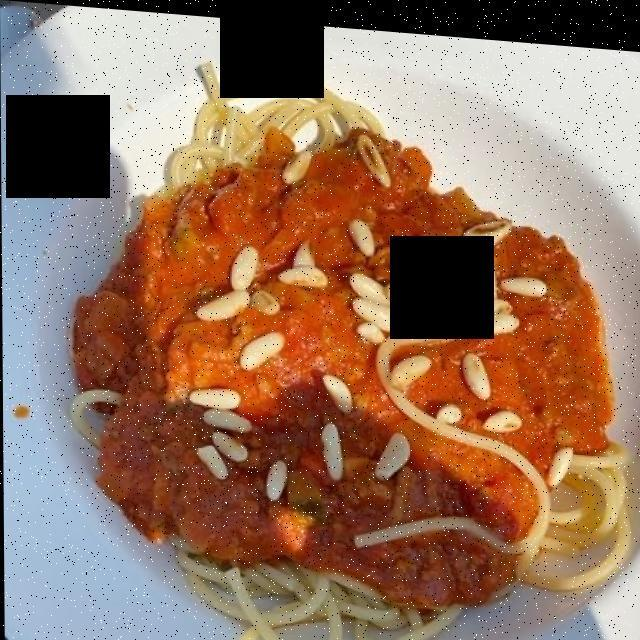pasta: (75, 76, 605, 612)
tomato-sauce: (74, 119, 590, 592)
